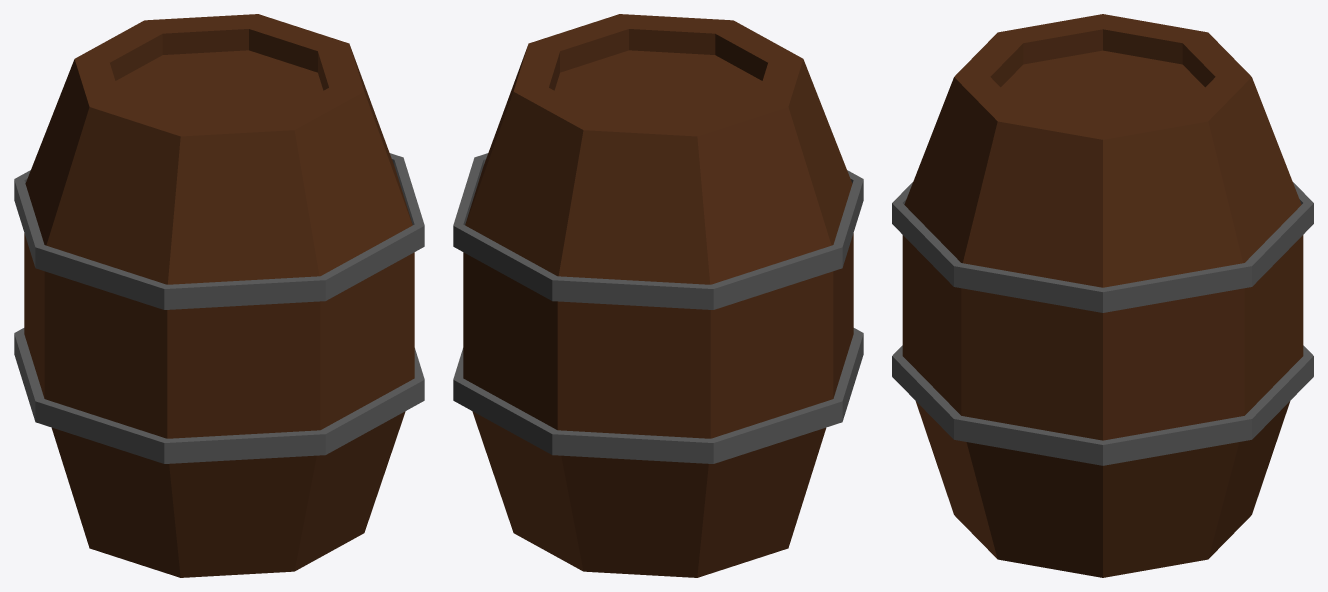
The model's file is Бочка.fbx.
The picture shows the model from 3 angles, left to right: view 1: azimuth 30°, elevation 25°; view 2: azimuth 150°, elevation 25°; view 3: azimuth 270°, elevation 25°; orthographic projection.
Parts seen in each view (by area): view 1: Cylinder.011; view 2: Cylinder.011; view 3: Cylinder.011.
Boxes of the visible parts, x1=… form: Cylinder.011: x1=14, y1=14, x2=424, y2=577; Cylinder.011: x1=453, y1=14, x2=863, y2=577; Cylinder.011: x1=892, y1=14, x2=1313, y2=577.
Bounding box in the file's own units: 0.478 × 0.5478 × 0.478.
